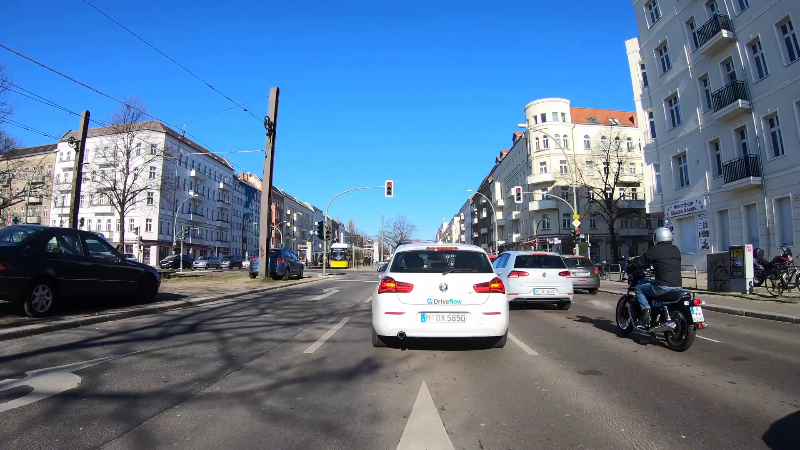Plate: (417, 311, 465, 324), (531, 287, 557, 295), (573, 271, 590, 278)
